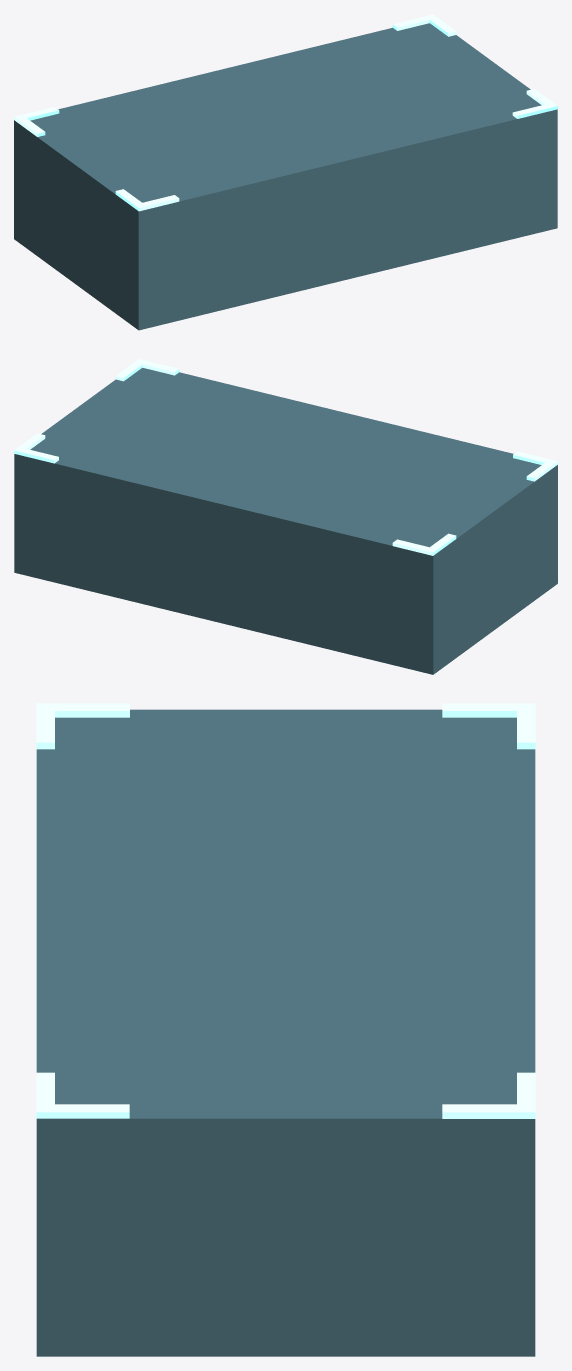
The model's file is tai.fbx.
3 views of the same model, one above another, from view 1: azimuth 30°, elevation 25°; view 2: azimuth 150°, elevation 25°; view 3: azimuth 270°, elevation 25° (orthographic). The views are drawn at different scales.
Parts seen in each view (by area): view 1: 底座01.001; view 2: 底座01.001; view 3: 底座01.001.
Part boxes in pixels (x1,y1,x2,y2): 底座01.001: [14, 14, 557, 330]; 底座01.001: [14, 359, 557, 674]; 底座01.001: [36, 703, 535, 1356].
Size of the model in its own units: 841 by 235 by 434.
